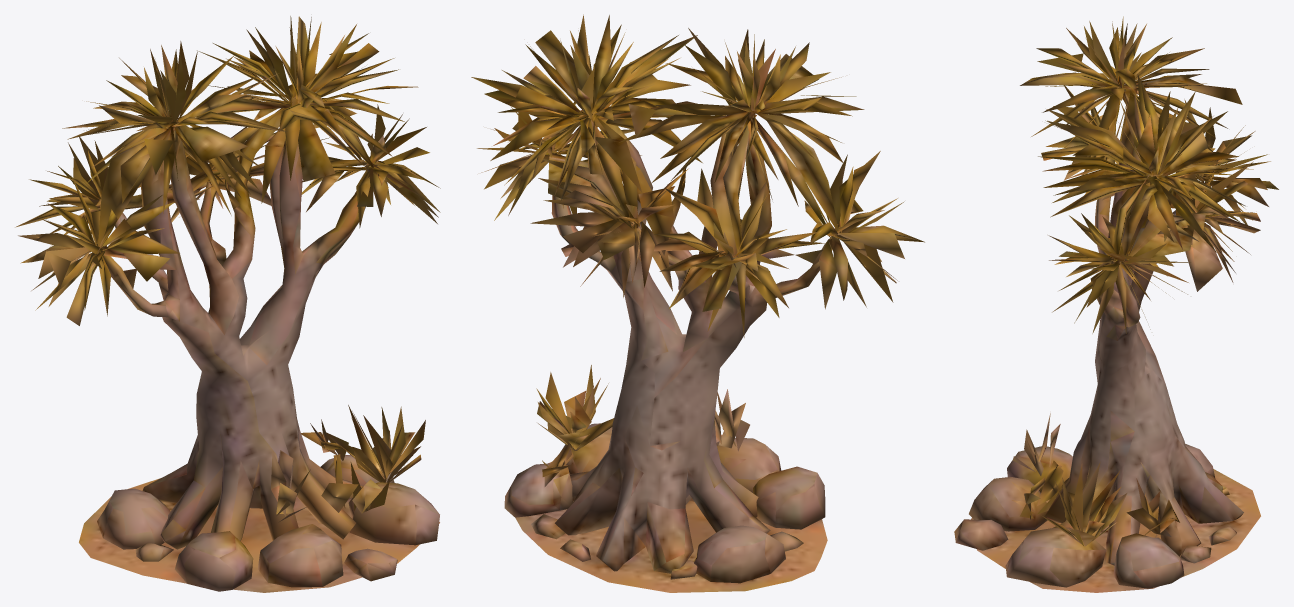
File: tree_04.glb
The picture shows the model from 3 angles, left to right: view 1: azimuth 30°, elevation 25°; view 2: azimuth 150°, elevation 25°; view 3: azimuth 270°, elevation 25°; orthographic projection. The views are drawn at different scales.
Parts seen in each view (by area): view 1: tree_04; view 2: tree_04; view 3: tree_04.
Boxes of the visible parts, x1=… form: tree_04: x1=15, y1=16, x2=440, y2=592; tree_04: x1=471, y1=14, x2=924, y2=592; tree_04: x1=954, y1=16, x2=1278, y2=592.
Size of the model in its own units: 4.97 by 5.9 by 3.74.
1 material, 1 textured.
